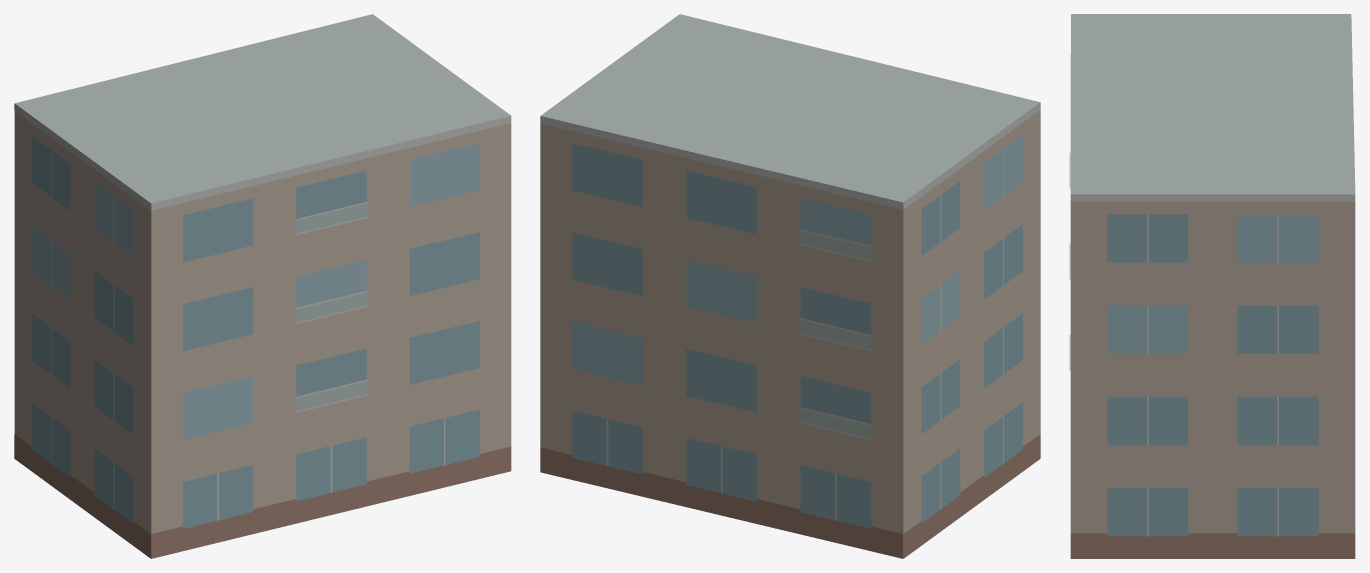
File: survey-upis-32644603.glb
3 views of the same model, side by side, from view 1: azimuth 30°, elevation 25°; view 2: azimuth 150°, elevation 25°; view 3: azimuth 270°, elevation 25° (orthographic). The views are drawn at different scales.
Parts seen in each view (by area): view 1: survey-upis-32644603.tmp; view 2: survey-upis-32644603.tmp; view 3: survey-upis-32644603.tmp.
Boxes of the visible parts, x1,y1,x2,y2 form: survey-upis-32644603.tmp: (14, 14, 511, 558); survey-upis-32644603.tmp: (540, 14, 1040, 558); survey-upis-32644603.tmp: (1069, 14, 1355, 558).
Size of the model in its own units: 12.43 by 11.7 by 8.33.
